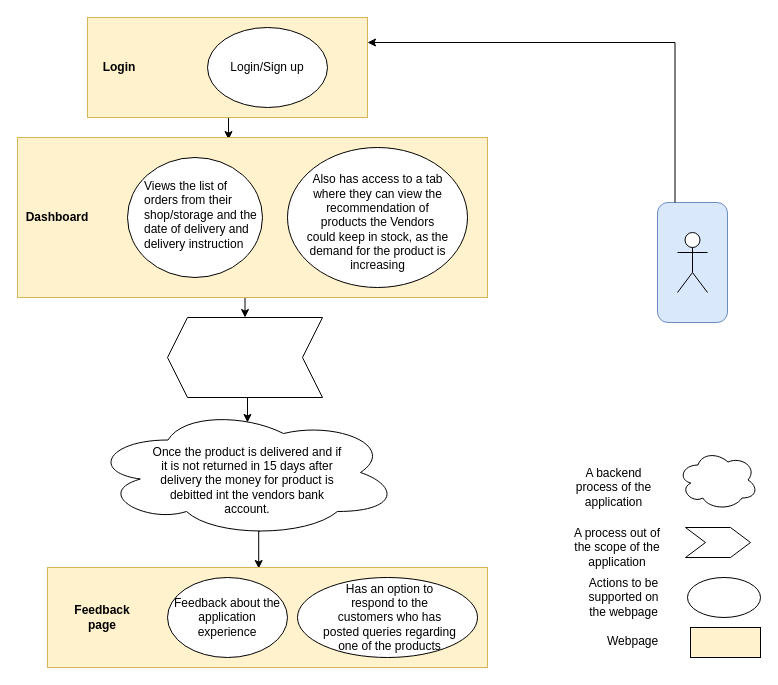
Some shapes in this 778 by 685 pixel diagram are drawn without their labels. Each missing label, with the box of its shape:
Ships the product / Hands over the product the delivery agent: (166, 316, 322, 398)
Vendor: (676, 232, 708, 292)
